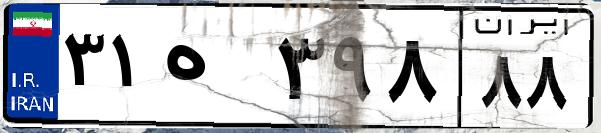1: (110, 28, 158, 98)
3: (270, 28, 330, 110), (57, 26, 110, 100)
8: (385, 28, 445, 110), (475, 38, 525, 113), (525, 38, 570, 115)
9: (330, 28, 385, 110)
ه: (158, 20, 270, 120)
